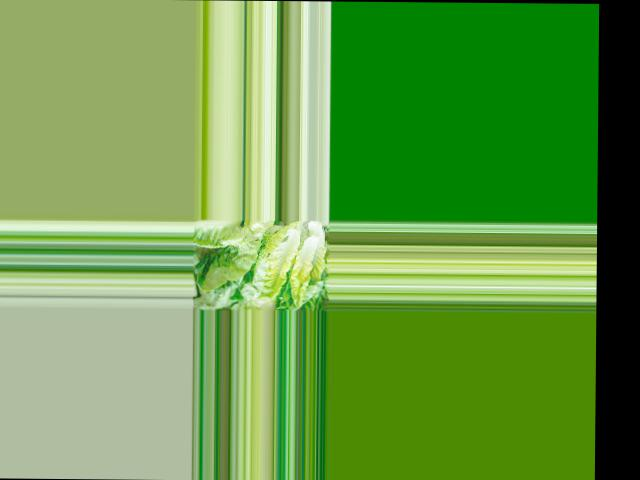lettuce: (239, 219, 326, 304)
